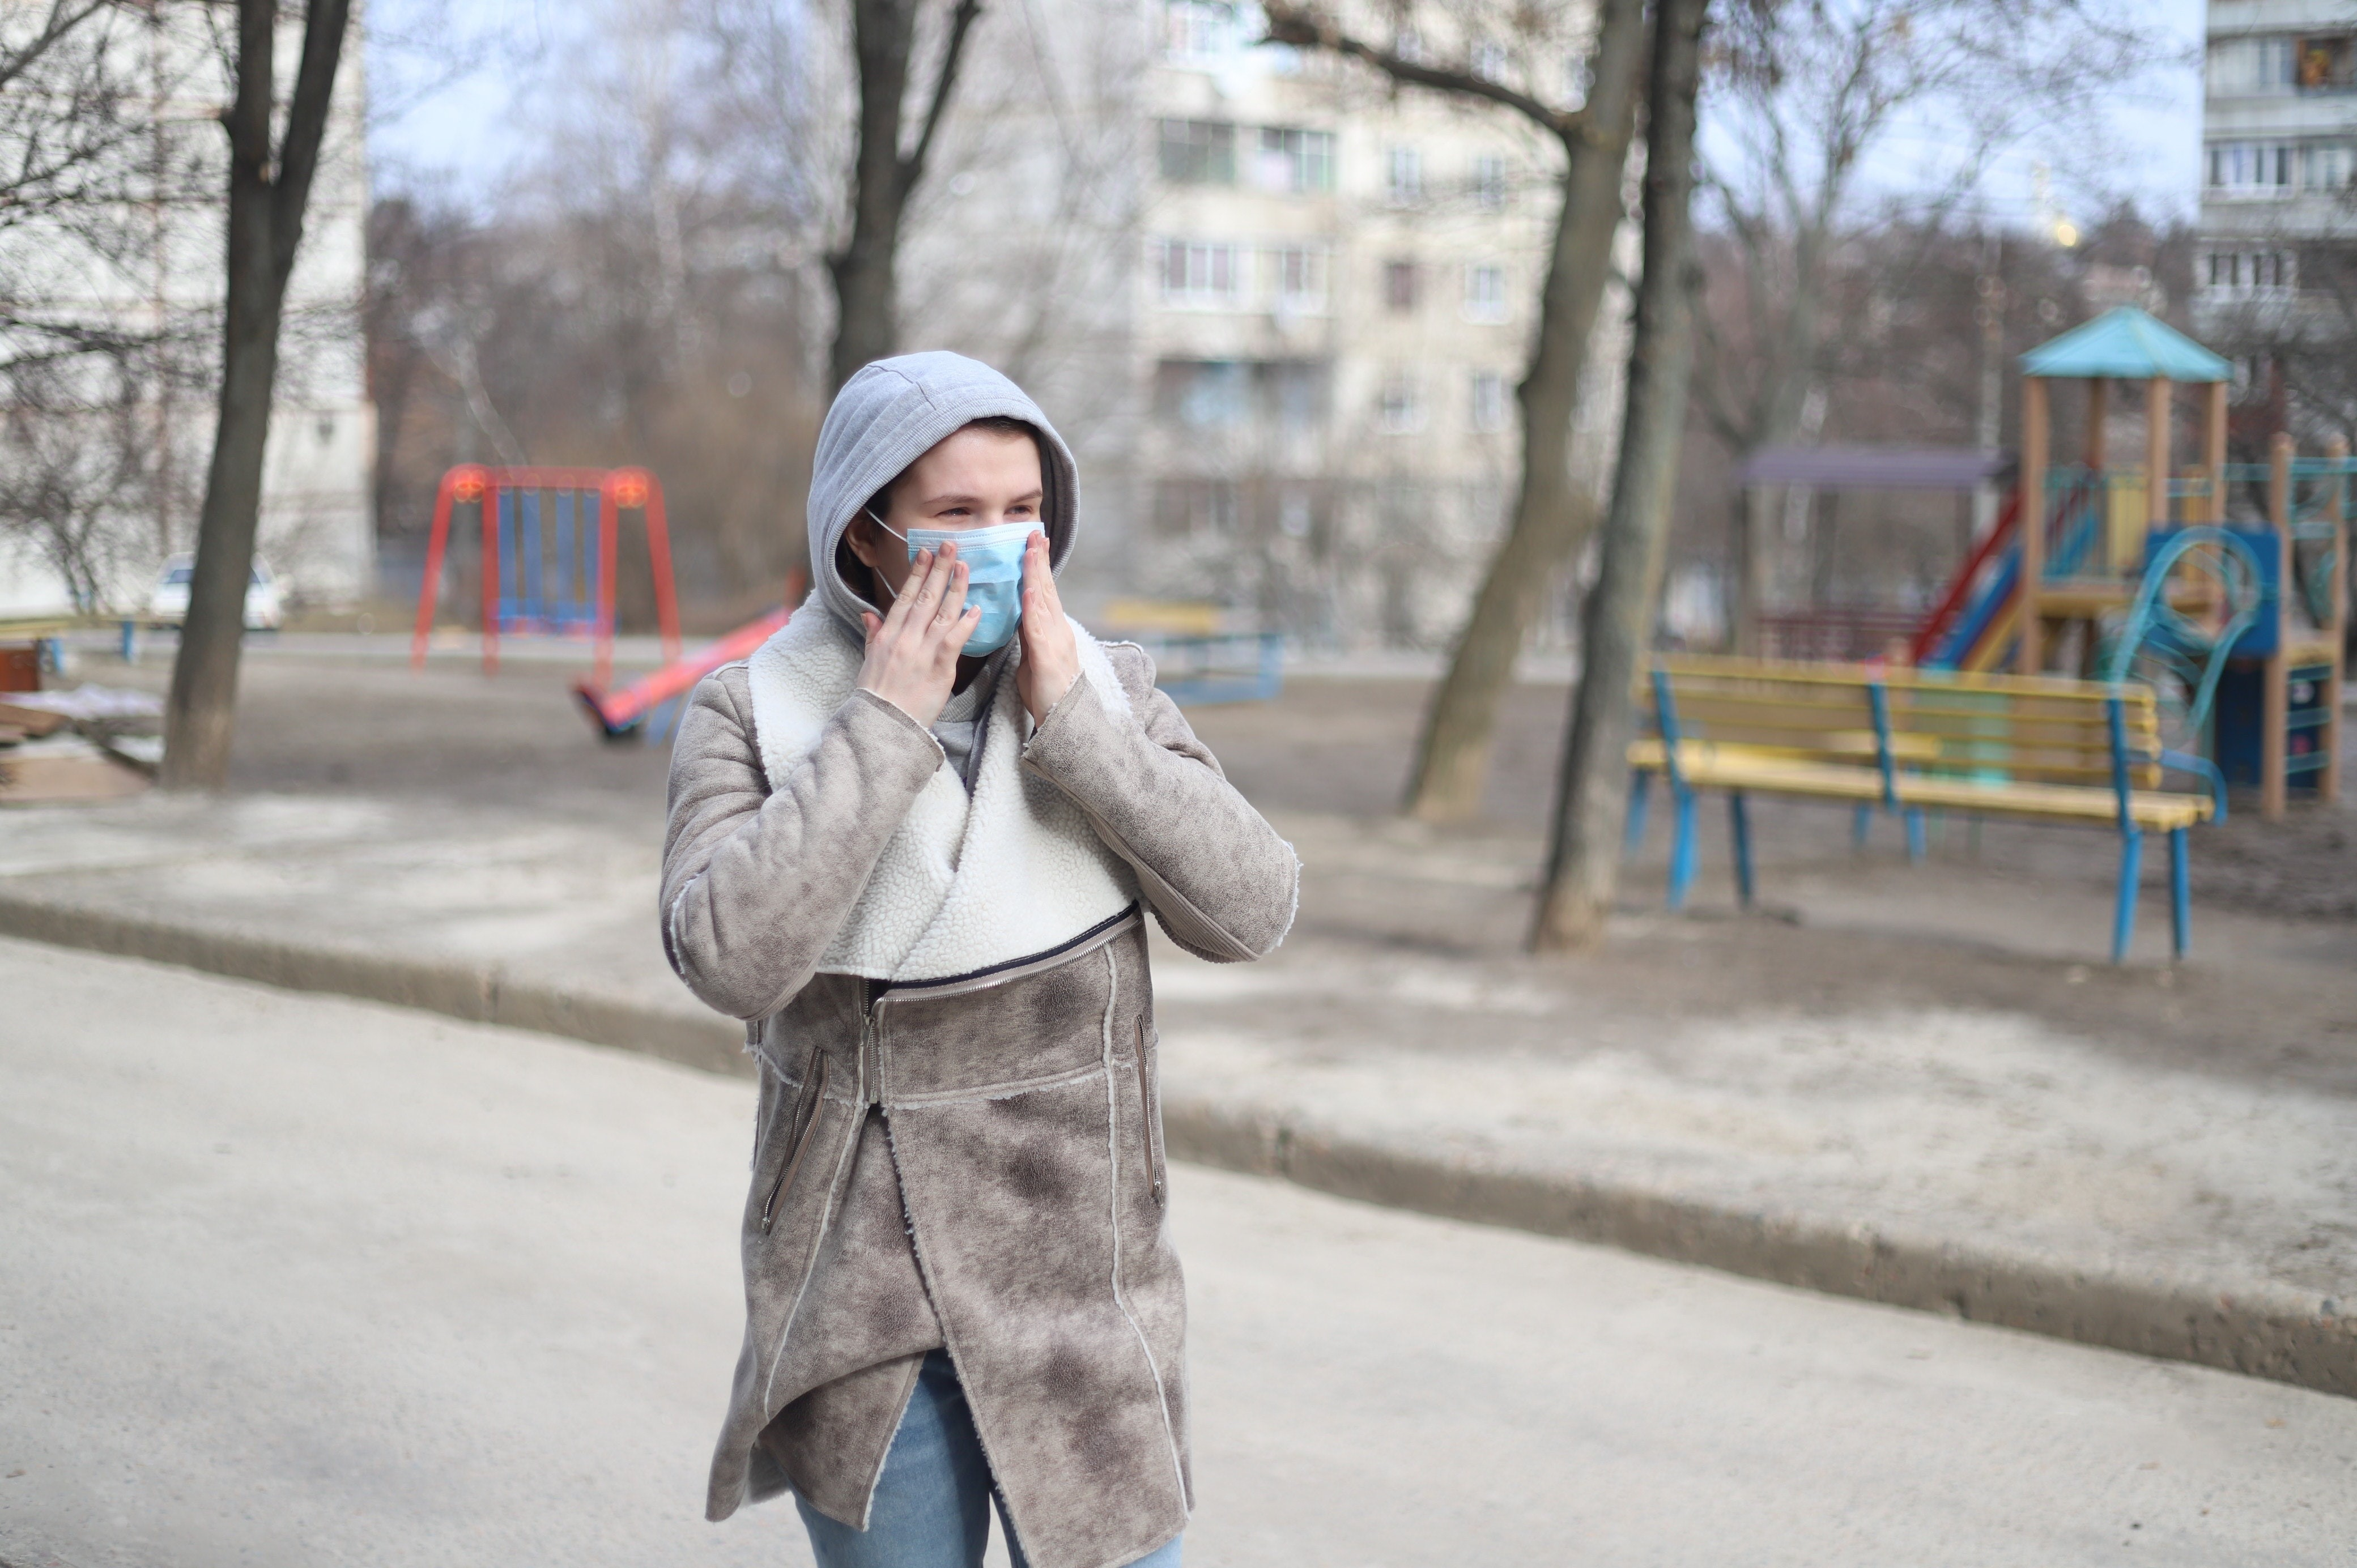face_with_mask: (814, 351, 1079, 667)
